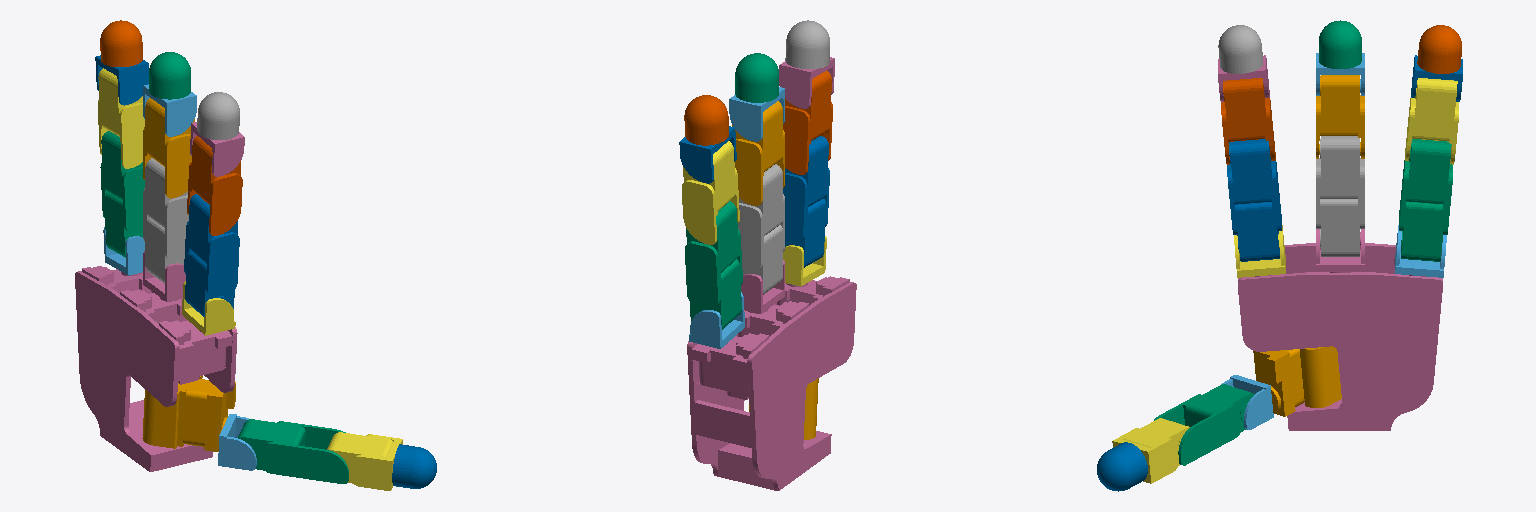
robot.urdf — allegro_left:
<?xml version="1.0" encoding="utf-8"?>
<robot name="allegro_left">

  <link name="root">
    <inertial>
      <mass value="0"/>
      <inertia ixx="0" ixy="0" ixz="0" iyy="0" iyz="0" izz="0" />
    </inertial>
  </link>
  <link name="root_arm_1_link_1">
    <inertial>
      <mass value="0"/>
      <inertia ixx="0.00" ixy="0.00" ixz="0.00" iyy="0.00" iyz="0.00" izz="0.00"/>
    </inertial>
  </link>
  <link name="root_arm_1_link_2">
    <inertial>
      <mass value="0"/>
      <inertia ixx="0.00" ixy="0.00" ixz="0.00" iyy="0.00" iyz="0.00" izz="0.00"/>
    </inertial>
  </link>
  <link name="root_arm_1_link_3">
    <inertial>
      <mass value="0"/>
      <inertia ixx="0.00" ixy="0.00" ixz="0.00" iyy="0.00" iyz="0.00" izz="0.00"/>
    </inertial>
  </link>
  <link name="root_arm_1_link_4">
    <inertial>
      <mass value="0"/>
      <inertia ixx="0.00" ixy="0.00" ixz="0.00" iyy="0.00" iyz="0.00" izz="0.00"/>
    </inertial>
  </link>
  <link name="root_arm_1_link_5">
    <inertial>
      <mass value="0"/>
      <inertia ixx="0.00" ixy="0.00" ixz="0.00" iyy="0.00" iyz="0.00" izz="0.00"/>
    </inertial>
  </link>
  <joint name="root_x_axis_joint" type="prismatic">
    <parent link="root" />
    <child link="root_arm_1_link_1" />
    <axis xyz="1 0 0" />
    <limit effort="100" lower="-20" upper="20" velocity="0.5" />
    <dynamics damping="10.0" friction="10" />
  </joint>
  <joint name="root_y_axis_joint" type="prismatic">
    <parent link="root_arm_1_link_1" />
    <child link="root_arm_1_link_2" />
    <axis xyz="0 1 0" />
    <limit effort="100" lower="-20" upper="20" velocity="0.5" />
    <dynamics damping="10" friction="10" />
  </joint>
  <joint name="root_z_axis_joint" type="prismatic">
    <parent link="root_arm_1_link_2" />
    <child link="root_arm_1_link_3" />
    <axis xyz="0 0 1" />
    <limit effort="100" lower="-20" upper="20" velocity="0.5" />
    <dynamics damping="10" friction="10" />
  </joint>
  <joint name="root_x_rot_joint" type="revolute">
    <parent link="root_arm_1_link_3" />
    <child link="root_arm_1_link_4" />
    <axis xyz="1 0 0" />
    <limit effort="100" lower="-20" upper="20" velocity="0.5" />
    <dynamics damping="10" friction="10" />
  </joint>
  <joint name="root_y_rot_joint" type="revolute">
    <parent link="root_arm_1_link_4" />
    <child link="root_arm_1_link_5" />
    <axis xyz="0 1 0" />
    <limit effort="100" lower="-20" upper="20" velocity="0.5" />
    <dynamics damping="10" friction="10" />
  </joint>
  <joint name="root_z_rot_joint" type="revolute">
    <parent link="root_arm_1_link_5" />
    <child link="base_link" />
    <axis xyz="0 0 1" />
    <limit effort="100" lower="-20" upper="20" velocity="0.5" />
    <dynamics damping="10" friction="10" />
  </joint>
  
  <link name="base_link">
    <inertial>
      <mass value="0.4154"/>
      <origin rpy="0 0 0" xyz="0 0 0"/>
      <inertia ixx="1e-4" ixy="0" ixz="0" iyy="1e-4" iyz="0" izz="1e-4"/>
    </inertial>
    <visual>
      <geometry>
        <mesh filename="meshes/visual/base_link_left.obj"/>
      </geometry>
      <origin rpy="-1.570795 0 0" xyz="0 0 0 "/>
    </visual>
    <collision>
      <origin rpy="0 0 0" xyz="-0.009 0.0 -0.023"/>
      <geometry>
        <box size="0.0414 0.112 0.0448"/>
      </geometry>
    </collision>
    <collision>
      <origin rpy="0 0 0" xyz="-0.009 0.0253 -0.0667"/>
      <geometry>
        <box size="0.0414 0.0538 0.0428"/>
      </geometry>
    </collision>
    <collision>
      <origin rpy="0 0 0" xyz="-0.009300 0.00557 -0.08874"/>
      <geometry>
        <box size="0.0414 0.0720 0.013"/>
      </geometry>
    </collision>
  </link> <!--  virtual link-->
  <link name="palm"/>
  <joint name="palm_joint" type="fixed">
    <parent link="base_link"/>
    <child link="palm"/>
    <origin rpy="0.00000 -0.00000 0.00000" xyz="0 0 -0.065"/>
  </joint> <!--  virtual link-->
  <link name="wrist"/>
  <joint name="wrist_joint" type="fixed">
    <origin rpy="0 0 0" xyz="0 0 -0.03"/>
    <parent link="palm"/>
    <child link="wrist"/>
  </joint>
  <link name="link_0.0">
    <visual>
      <geometry>
        <mesh filename="meshes/visual/link_0.0.obj"/>
      </geometry>
    </visual>
    <collision>
      <geometry>
        <box size="0.0196 0.0275 0.0164"/>
      </geometry>
      <origin rpy="0 0 0" xyz="0 0 0.0082"/>
    </collision>
    <inertial>
      <mass value="0.0119"/>
      <origin xyz="0 0 0" rpy="0 0 0"/>
      <inertia ixx="1.01666658333e-06" ixy="0.0" ixz="0.0" iyy="6.47677333333e-07" iyz="0.0" izz="1.01666658333e-06"/>
    </inertial>
  </link>
  <joint name="joint_0.0" type="revolute">
    <axis xyz="0 0 1"/>
    <limit effort="10" lower="-0.47" upper="0.47" velocity="3.14"/>
    <parent link="base_link"/>
    <child link="link_0.0"/>
    <origin rpy="-0.08726646255 0 0" xyz="0 0.0435 -0.001542"/>
  </joint>
  <link name="link_1.0">
    <inertial>
      <mass value="0.065"/>
      <origin xyz="0 0 0" rpy="0 0 0"/>
      <inertia ixx="7.95654166667e-05" ixy="1.7199e-05" ixz="8.75875e-06" iyy="2.47088833333e-05" iyz="2.413125e-05" izz="7.95654166667e-05"/>
    </inertial>
    <visual>
      <geometry>
        <mesh filename="meshes/visual/link_1.0.obj"/>
      </geometry>
    </visual>
    <collision>
      <geometry>
        <box size="0.0196 0.0275 0.054"/>
      </geometry>
      <origin rpy="0 0 0" xyz="0 0 0.027"/>
    </collision>
  </link>
  <joint name="joint_1.0" type="revolute">
    <limit effort="10" lower="-0.196" upper="1.61" velocity="3.14"/>
    <axis xyz="0 1 0"/>
    <parent link="link_0.0"/>
    <child link="link_1.0"/>
    <origin xyz="0 0 0.0164"/>
  </joint>
  <link name="link_2.0">
    <inertial>
      <mass value="0.0355"/>
      <origin xyz="0 0 0" rpy="0 0 0"/>
      <inertia ixx="2.63979183333e-05" ixy="6.67968e-06" ixz="4.783625e-06" iyy="1.34948516667e-05" iyz="9.372e-06" izz="2.63979183333e-05"/>
    </inertial>
    <visual>
      <geometry>
        <mesh filename="meshes/visual/link_2.0.obj"/>
      </geometry>
    </visual>
    <collision>
      <geometry>
        <box size="0.0196 0.0275 0.0384"/>
      </geometry>
      <origin rpy="0 0 0" xyz="0 0 0.0192"/>
    </collision>
  </link>
  <joint name="joint_2.0" type="revolute">
    <axis xyz="0 1 0"/>
    <limit effort="10" lower="-0.174" upper="1.709" velocity="3.14"/>
    <parent link="link_1.0"/>
    <child link="link_2.0"/>
    <origin xyz="0 0 0.054"/>
  </joint>
  <link name="link_3.0">
    <visual>
      <geometry>
        <mesh filename="meshes/visual/link_3.0.obj"/>
      </geometry>
    </visual>
    <collision>
      <geometry>
        <box size="0.0196 0.0269 0.022"/>
      </geometry>
      <origin rpy="0 0 0" xyz="0 0 0.0047"/>
    </collision>
    <inertial>
      <origin rpy="0 0 0" xyz="0 0 0.01335"/>
      <mass value="0.02"/>
      <inertia ixx="1e-5" ixy="0.0" ixz="0.0" iyy="2e-5" iyz="0.0" izz="2e-5"/>
    </inertial>
  </link>
  <joint name="joint_3.0" type="revolute">
    <axis xyz="0 1 0"/>
    <limit effort="10" lower="-0.227" upper="1.618" velocity="3.14"/>
    <parent link="link_2.0"/>
    <child link="link_3.0"/>
    <origin xyz="0 0 0.0384"/>
  </joint>
  <link name="link_3.0_tip">
    <inertial>
      <mass value="0.0168"/>
      <origin xyz="0 0 0" rpy="0 0 0"/>
      <inertia ixx="9.68e-07" ixy="0" ixz="0" iyy="9.68e-07" iyz="0" izz="9.68e-07"/>
    </inertial>
    <visual>
      <origin rpy="0 0 0" xyz="0 0 -0.012"/>
      <geometry>
        <mesh filename="meshes/visual/link_tip.obj"/>
      </geometry>
    </visual>
    <collision>
      <origin rpy="0 0 0" xyz="0 0 -0.012"/>
      <geometry>
        <mesh filename="meshes/collision/link_tip.obj"/>
      </geometry>
    </collision>
  </link>
  <joint name="joint_3.0_tip" type="fixed">
    <parent link="link_3.0"/>
    <child link="link_3.0_tip"/>
    <origin rpy="0 0 0" xyz="0 0 0.0387"/>
  </joint>
  <link name="link_4.0">
    <inertial>
      <mass value="0.005"/>
      <origin xyz="0 0 0"/>
      <inertia ixx="5.1458e-05" iyy="5.1458e-05" izz="6.125e-05" ixy="0" ixz="0" iyz="0"/>
    </inertial>
    <visual>
      <geometry>
        <mesh filename="meshes/visual/link_0.0.obj"/>
      </geometry>
    </visual>
    <collision>
      <geometry>
        <box size="0.0196 0.0275 0.0164"/>
      </geometry>
      <origin rpy="0 0 0" xyz="0 0 0.0082"/>
    </collision>
  </link>
  <joint name="joint_4.0" type="revolute">
    <axis xyz="0 0 1"/>
    <limit effort="10" lower="-0.47" upper="0.47" velocity="3.14"/>
    <parent link="base_link"/>
    <child link="link_4.0"/>
    <origin rpy="0.0 0 0" xyz="0 0 0.0007"/>
  </joint>
  <link name="link_5.0">
    <inertial>
      <mass value="0.065"/>
      <origin xyz="0 0 0" rpy="0 0 0"/>
      <inertia ixx="7.95654166667e-05" ixy="1.7199e-05" ixz="8.75875e-06" iyy="2.47088833333e-05" iyz="2.413125e-05" izz="7.95654166667e-05"/>
    </inertial>
    <visual>
      <geometry>
        <mesh filename="meshes/visual/link_1.0.obj"/>
      </geometry>
    </visual>
    <collision>
      <geometry>
        <box size="0.0196 0.0275 0.054"/>
      </geometry>
      <origin rpy="0 0 0" xyz="0 0 0.027"/>
    </collision>
  </link>
  <joint name="joint_5.0" type="revolute">
    <limit effort="10" lower="-0.196" upper="1.61" velocity="3.14"/>
    <axis xyz="0 1 0"/>
    <parent link="link_4.0"/>
    <child link="link_5.0"/>
    <origin xyz="0 0 0.0164"/>
  </joint>
  <link name="link_6.0">
    <inertial>
      <mass value="0.0355"/>
      <origin xyz="0 0 0" rpy="0 0 0"/>
      <inertia ixx="2.63979183333e-05" ixy="6.67968e-06" ixz="4.783625e-06" iyy="1.34948516667e-05" iyz="9.372e-06" izz="2.63979183333e-05"/>
    </inertial>
    <visual>
      <geometry>
        <mesh filename="meshes/visual/link_2.0.obj"/>
      </geometry>
    </visual>
    <collision>
      <geometry>
        <box size="0.0196 0.0275 0.0384"/>
      </geometry>
      <origin rpy="0 0 0" xyz="0 0 0.0192"/>
    </collision>
  </link>
  <joint name="joint_6.0" type="revolute">
    <axis xyz="0 1 0"/>
    <limit effort="10" lower="-0.174" upper="1.709" velocity="3.14"/>
    <parent link="link_5.0"/>
    <child link="link_6.0"/>
    <origin xyz="0 0 0.054"/>
  </joint>
  <link name="link_7.0">
    <inertial>
      <mass value="0.0388"/>
      <origin xyz="0 0 0" rpy="0 0 0"/>
      <inertia ixx="3.29223173333e-05" ixy="8.042076e-06" ixz="5.2283e-06" iyy="1.47493026667e-5" iyz="1.1283525e-5" izz="3.29223173333e-05"/>
    </inertial>
    <visual>
      <geometry>
        <mesh filename="meshes/visual/link_3.0.obj"/>
      </geometry>
    </visual>
    <collision>
      <geometry>
        <box size="0.0196 0.0269 0.022"/>
      </geometry>
      <origin rpy="0 0 0" xyz="0 0 0.0047"/>
    </collision>
  </link>
  <joint name="joint_7.0" type="revolute">
    <axis xyz="0 1 0"/>
    <limit effort="10" lower="-0.227" upper="1.618" velocity="3.14"/>
    <parent link="link_6.0"/>
    <child link="link_7.0"/>
    <origin xyz="0 0 0.0384"/>
  </joint>
  <link name="link_7.0_tip">
    <inertial>
      <mass value="0.0096"/>
      <origin xyz="0 0 0" rpy="0 0 0"/>
      <inertia ixx="4.701248e-06" ixy="1.255968e-06" ixz="1.2936e-06" iyy="3.649312e-06" iyz="1.7622e-06" izz="4.701248e-06"/>
    </inertial>
    <visual>
      <origin rpy="0 0 0" xyz="0 0 -0.012"/>
      <geometry>
        <mesh filename="meshes/visual/link_tip.obj"/>
      </geometry>
    </visual>
    <collision>
      <origin rpy="0 0 0" xyz="0 0 -0.012"/>
      <geometry>
        <mesh filename="meshes/collision/link_tip.obj"/>
      </geometry>
    </collision>
  </link>
  <joint name="joint_7.0_tip" type="fixed">
    <parent link="link_7.0"/>
    <child link="link_7.0_tip"/>
    <origin rpy="0 0 0" xyz="0 0 0.0387"/>
  </joint>
  <link name="link_8.0">
    <inertial>
      <mass value="0.005"/>
      <origin xyz="0 0 0"/>
      <inertia ixx="5.1458e-05" iyy="5.1458e-05" izz="6.125e-05" ixy="0" ixz="0" iyz="0"/>
    </inertial>
    <visual>
      <geometry>
        <mesh filename="meshes/visual/link_0.0.obj"/>
      </geometry>
    </visual>
    <collision>
      <geometry>
        <box size="0.0196 0.0275 0.0164"/>
      </geometry>
      <origin rpy="0 0 0" xyz="0 0 0.0082"/>
    </collision>
  </link>
  <joint name="joint_8.0" type="revolute">
    <axis xyz="0 0 1"/>
    <limit effort="10" lower="-0.47" upper="0.47" velocity="3.14"/>
    <parent link="base_link"/>
    <child link="link_8.0"/>
    <origin rpy="0.08726646255 0 0" xyz="0 -0.0435 -0.001542"/>
  </joint>
  <link name="link_9.0">
    <inertial>
      <mass value="0.065"/>
      <origin xyz="0 0 0" rpy="0 0 0"/>
      <inertia ixx="7.95654166667e-05" ixy="1.7199e-05" ixz="8.75875e-06" iyy="2.47088833333e-05" iyz="2.413125e-05" izz="7.95654166667e-05"/>
    </inertial>
    <visual>
      <geometry>
        <mesh filename="meshes/visual/link_1.0.obj"/>
      </geometry>
    </visual>
    <collision>
      <geometry>
        <box size="0.0196 0.0275 0.054"/>
      </geometry>
      <origin rpy="0 0 0" xyz="0 0 0.027"/>
    </collision>
  </link>
  <joint name="joint_9.0" type="revolute">
    <limit effort="10" lower="-0.196" upper="1.61" velocity="3.14"/>
    <axis xyz="0 1 0"/>
    <parent link="link_8.0"/>
    <child link="link_9.0"/>
    <origin xyz="0 0 0.0164"/>
  </joint>
  <link name="link_10.0">
    <inertial>
      <mass value="0.0355"/>
      <origin xyz="0 0 0" rpy="0 0 0"/>
      <inertia ixx="2.63979183333e-05" ixy="6.67968e-06" ixz="4.783625e-06" iyy="1.34948516667e-05" iyz="9.372e-06" izz="2.63979183333e-05"/>
    </inertial>
    <visual>
      <geometry>
        <mesh filename="meshes/visual/link_2.0.obj"/>
      </geometry>
    </visual>
    <collision>
      <geometry>
        <box size="0.0196 0.0275 0.0384"/>
      </geometry>
      <origin rpy="0 0 0" xyz="0 0 0.0192"/>
    </collision>
  </link>
  <joint name="joint_10.0" type="revolute">
    <axis xyz="0 1 0"/>
    <limit effort="10" lower="-0.174" upper="1.709" velocity="3.14"/>
    <parent link="link_9.0"/>
    <child link="link_10.0"/>
    <origin xyz="0 0 0.054"/>
  </joint>
  <link name="link_11.0">
    <inertial>
      <mass value="0.0096"/>
      <origin xyz="0 0 0" rpy="0 0 0"/>
      <inertia ixx="4.701248e-06" ixy="1.255968e-06" ixz="1.2936e-06" iyy="3.649312e-06" iyz="1.7622e-06" izz="4.701248e-06"/>
    </inertial>
    <visual>
      <geometry>
        <mesh filename="meshes/visual/link_3.0.obj"/>
      </geometry>
    </visual>
    <collision>
      <geometry>
        <box size="0.0196 0.0269 0.022"/>
      </geometry>
      <origin rpy="0 0 0" xyz="0 0 0.0047"/>
    </collision>
  </link>
  <joint name="joint_11.0" type="revolute">
    <axis xyz="0 1 0"/>
    <limit effort="10" lower="-0.227" upper="1.618" velocity="3.14"/>
    <parent link="link_10.0"/>
    <child link="link_11.0"/>
    <origin xyz="0 0 0.0384"/>
  </joint>
  <link name="link_11.0_tip">
    <inertial>
      <mass value="0.0168"/>
      <origin xyz="0 0 0" rpy="0 0 0"/>
      <inertia ixx="9.68e-07" ixy="0" ixz="0" iyy="9.68e-07" iyz="0" izz="9.68e-07"/>
    </inertial>
    <visual>
      <origin rpy="0 0 0" xyz="0 0 -0.012"/>
      <geometry>
        <mesh filename="meshes/visual/link_tip.obj"/>
      </geometry>
    </visual>
    <collision>
      <origin rpy="0 0 0" xyz="0 0 -0.012"/>
      <geometry>
        <mesh filename="meshes/collision/link_tip.obj"/>
      </geometry>
    </collision>
  </link>
  <joint name="joint_11.0_tip" type="fixed">
    <parent link="link_11.0"/>
    <child link="link_11.0_tip"/>
    <origin rpy="0 0 0" xyz="0 0 0.0387"/>
  </joint> <!-- THUMB -->
  <link name="link_12.0">
    <inertial>
      <mass value="0.0176"/>
      <origin xyz="0 0 0" rpy="0 0 0"/>
      <inertia ixx="1.89273333333e-5" ixy="7.16716e-06" ixz="5.35568e-06" iyy="1.43008213333e-05" iyz="6.8068e-06" izz="1.89273333333e-05"/>
    </inertial>
    <visual>
      <geometry>
        <mesh filename="meshes/visual/link_12.0_left.obj"/>
      </geometry>
      <origin rpy="3.14159 0 0" xyz="0 0 0"/>
    </visual>
    <collision>
      <geometry>
        <box size="0.0358 0.034 0.0455"/>
      </geometry>
      <origin rpy="0 0 0" xyz="-0.0179 0.009 0.0145"/>
    </collision>
  </link>
  <joint name="joint_12.0" type="revolute">
    <axis xyz="1 0 0"/>
    <limit effort="10" lower="0.263" upper="1.396" velocity="3.14"/>
    <parent link="base_link"/>
    <child link="link_12.0"/>
    <origin xyz="-0.0182 -0.019333 -0.045987" rpy="0 -1.65806278845 1.5707963259"/>
  </joint>
  <link name="link_13.0">
    <inertial>
      <mass value="0.0119"/>
      <origin xyz="0 0 0" rpy="0 0 0"/>
      <inertia ixx="4.24250866667e-06" ixy="1.032087e-06" ixz="1.603525e-06" iyy="4.52362633333e-06" iyz="1.44808125e-06" izz="4.24250866667e-06"/>
    </inertial>
    <visual>
      <geometry>
        <mesh filename="meshes/visual/link_13.0.obj"/>
      </geometry>
    </visual>
    <collision>
      <geometry>
        <box size="0.0196 0.0275 0.0177"/>
      </geometry>
      <origin rpy="0 0 0" xyz="0 0 0.00885"/>
    </collision>
  </link>
  <joint name="joint_13.0" type="revolute">
    <axis xyz="0 0 -1"/>
    <limit effort="10" lower="-0.105" upper="1.163" velocity="3.14"/>
    <parent link="link_12.0"/>
    <child link="link_13.0"/>
    <origin xyz="-0.027 0.005 0.0399"/>
  </joint>
  <link name="link_14.0">
    <inertial>
      <mass value="0.038"/>
      <origin xyz="0 0 0" rpy="0 0 0"/>
      <inertia ixx="4.30439933333e-05" ixy="9.57068e-06" ixz="5.1205e-06" iyy="1.44451933333e-05" iyz="1.342825e-05" izz="4.30439933333e-05"/>
    </inertial>
    <visual>
      <geometry>
        <mesh filename="meshes/visual/link_14.0.obj"/>
      </geometry>
    </visual>
    <collision>
      <geometry>
        <box size="0.0196 0.0275 0.0514"/>
      </geometry>
      <origin rpy="0 0 0" xyz="0 0 0.0257"/>
    </collision>
  </link>
  <joint name="joint_14.0" type="revolute">
    <axis xyz="0 1 0"/>
    <limit effort="10" lower="-0.189" upper="1.644" velocity="3.14"/>
    <parent link="link_13.0"/>
    <child link="link_14.0"/>
    <origin xyz="0 0 0.0177"/>
  </joint>
  <link name="link_15.0">
    <inertial>
      <mass value="0.0388"/>
      <origin xyz="0 0 0" rpy="0 0 0"/>
      <inertia ixx="3.29223173333e-05" ixy="8.042076e-06" ixz="5.2283e-06" iyy="1.47493026667e-5" iyz="1.1283525e-5" izz="3.29223173333e-05"/>
    </inertial>
    <visual>
      <geometry>
        <mesh filename="meshes/visual/link_15.0.obj"/>
      </geometry>
    </visual>
    <collision>
      <geometry>
        <box size="0.0196 0.0269 0.04"/>
      </geometry>
      <origin rpy="0 0 0" xyz="0 0 0.01125"/>
    </collision>
  </link>
  <joint name="joint_15.0" type="revolute">
    <axis xyz="0 1 0"/>
    <limit effort="10" lower="-0.162" upper="1.719" velocity="3.14"/>
    <parent link="link_14.0"/>
    <child link="link_15.0"/>
    <origin xyz="0 0 0.0514"/>
  </joint>
  <link name="link_15.0_tip">
    <inertial>
      <mass value="0.0168"/>
      <origin xyz="0 0 0" rpy="0 0 0"/>
      <inertia ixx="9.68e-07" ixy="0" ixz="0" iyy="9.68e-07" iyz="0" izz="9.68e-07"/>
    </inertial>
    <visual>
      <origin rpy="0 0 0" xyz="0 0 -0.012"/>
      <geometry>
        <mesh filename="meshes/visual/link_tip.obj"/>
      </geometry>
    </visual>
    <collision>
      <origin rpy="0 0 0" xyz="0 0 -0.012"/>
      <geometry>
        <mesh filename="meshes/collision/link_tip.obj"/>
      </geometry>
    </collision>
  </link>
  <joint name="joint_15.0_tip" type="fixed">
    <parent link="link_15.0"/>
    <child link="link_15.0_tip"/>
    <origin rpy="0 0 0" xyz="0 0 0.0543"/>
  </joint>
</robot>

--- Render facts (derived) ---
3 views of the same robot in one strip: view 1: azimuth 30°, elevation 25°; view 2: azimuth 150°, elevation 25°; view 3: azimuth 270°, elevation 25° (orthographic).
Model allegro_left with 29 links and 28 joints (19 revolute, 3 prismatic, 6 fixed), rooted at root, posed joints at zero except 1 at the middle of their limits (joint_12.0 = 0.8295).
Visible links, largest first — view 1: base_link, link_14.0, link_12.0, link_9.0, link_5.0, link_1.0, link_10.0, link_15.0, link_6.0, link_2.0, link_11.0_tip, link_7.0_tip (+9 smaller); view 2: base_link, link_1.0, link_9.0, link_5.0, link_2.0, link_10.0, link_6.0, link_3.0_tip, link_7.0_tip, link_11.0_tip, link_0.0, link_11.0 (+5 smaller); view 3: base_link, link_9.0, link_1.0, link_5.0, link_12.0, link_14.0, link_10.0, link_2.0, link_6.0, link_15.0, link_15.0_tip, link_3.0_tip (+9 smaller).
Link boxes in pixels (x1,y1,x2,y2): base_link: (75, 266, 237, 471); link_14.0: (238, 419, 348, 483); link_12.0: (142, 375, 235, 451); link_9.0: (184, 194, 239, 316); link_5.0: (143, 158, 188, 283); link_1.0: (100, 131, 144, 257); link_10.0: (187, 136, 242, 235); link_15.0: (327, 432, 402, 490); link_6.0: (143, 98, 194, 198); link_2.0: (98, 68, 144, 168); link_11.0_tip: (197, 92, 239, 139); link_7.0_tip: (149, 52, 190, 99); base_link: (687, 276, 856, 490); link_1.0: (685, 201, 742, 329); link_9.0: (783, 136, 829, 267); link_5.0: (738, 164, 784, 294); link_2.0: (682, 141, 739, 244); link_10.0: (783, 71, 832, 174); link_6.0: (732, 101, 784, 205); link_3.0_tip: (684, 95, 728, 145); link_7.0_tip: (735, 53, 778, 102); link_11.0_tip: (785, 20, 829, 68); link_0.0: (689, 292, 744, 348); link_11.0: (779, 57, 834, 108); base_link: (1238, 243, 1442, 430); link_9.0: (1227, 139, 1281, 261); link_1.0: (1399, 139, 1452, 261); link_5.0: (1316, 136, 1364, 256); link_12.0: (1253, 346, 1341, 416); link_14.0: (1154, 384, 1254, 465); link_10.0: (1221, 78, 1275, 164); link_2.0: (1405, 78, 1458, 164); link_6.0: (1316, 75, 1364, 158); link_15.0: (1112, 418, 1189, 483); link_15.0_tip: (1097, 442, 1147, 491); link_3.0_tip: (1417, 25, 1461, 73).
Bounding box of the posed robot: 0.1315 × 0.2022 × 0.2432 m (x, y, z).
Meshes: 10 distinct files referenced, 21 mesh visuals loaded (10 OBJ).